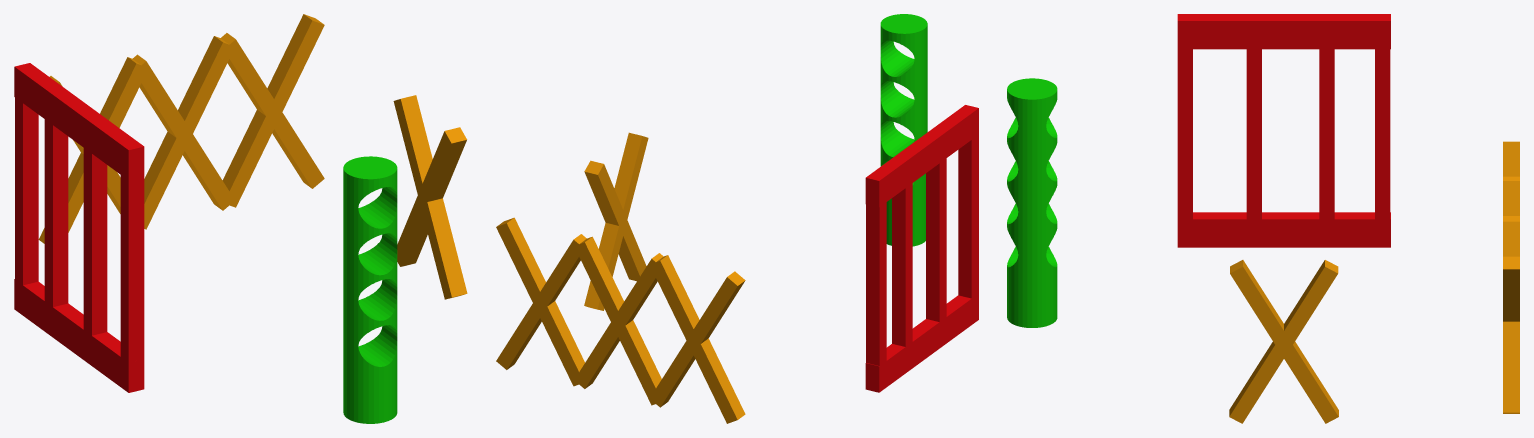
The model's file is simple_obstacle_4.dae.
The picture shows the model from 3 angles, left to right: view 1: azimuth 30°, elevation 25°; view 2: azimuth 150°, elevation 25°; view 3: azimuth 270°, elevation 25°; orthographic projection. The views are drawn at different scales.
Parts seen in each view (by area): view 1: Cylinder, Cube_004, Cube_006, Cube_010, Cube, Cube_002, Cube_001, Cube_007, Cube_003, Cube_009, Cube_008, Cube_011 (+3 smaller); view 2: Cylinder, Cube_004, Cube_006, Cube_013, Cube_010, Cube_009, Cube_003, Cube_002, Cube_001, Cube, Cube_005, Cube_012 (+3 smaller); view 3: Cylinder, Cube_004, Cube_006, Cube_005, Cube_007, Cube, Cube_003, Cube_001, Cube_002, Cube_011, Cube_010, Cube_012 (+1 smaller).
Boxes of the visible parts, x1,y1,x2,y2 form: Cylinder: [343, 156, 397, 423]; Cube_004: [14, 63, 144, 180]; Cube_006: [14, 279, 144, 392]; Cube_010: [222, 14, 324, 207]; Cube: [120, 172, 144, 363]; Cube_002: [44, 117, 68, 307]; Cube_001: [83, 148, 107, 335]; Cube_007: [393, 95, 467, 299]; Cube_003: [15, 96, 38, 286]; Cube_009: [144, 36, 229, 229]; Cube_008: [132, 54, 229, 210]; Cube_011: [220, 33, 324, 188]; Cylinder: [880, 14, 927, 246]; Cube_004: [865, 105, 978, 207]; Cube_006: [865, 293, 978, 392]; Cube_013: [649, 255, 745, 423]; Cube_010: [496, 217, 584, 386]; Cube_009: [574, 236, 661, 405]; Cube_003: [866, 202, 886, 366]; Cube_002: [892, 182, 912, 347]; Cube_001: [926, 158, 946, 321]; Cube: [958, 135, 978, 298]; Cube_005: [584, 132, 648, 310]; Cube_012: [649, 271, 745, 407]; Cylinder: [1007, 78, 1057, 327]; Cube_004: [1177, 14, 1390, 49]; Cube_006: [1177, 212, 1390, 247]; Cube_005: [1230, 260, 1338, 423]; Cube_007: [1229, 260, 1338, 423]; Cube: [1177, 47, 1192, 220]; Cube_003: [1375, 47, 1390, 220]; Cube_001: [1246, 47, 1261, 220]; Cube_002: [1319, 47, 1334, 220]; Cube_011: [1503, 221, 1519, 413]; Cube_010: [1503, 256, 1519, 321]; Cube_012: [1503, 141, 1519, 176].
Bounding box in the file's own units: 4.75 × 6.1 × 3.19.
